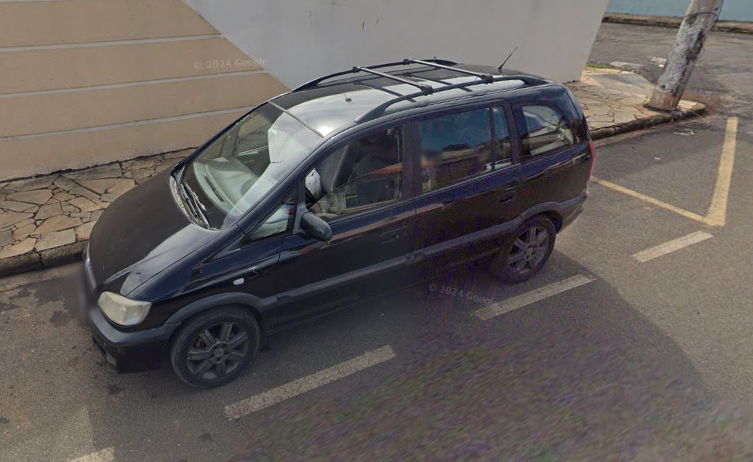car: (81, 52, 600, 379)
